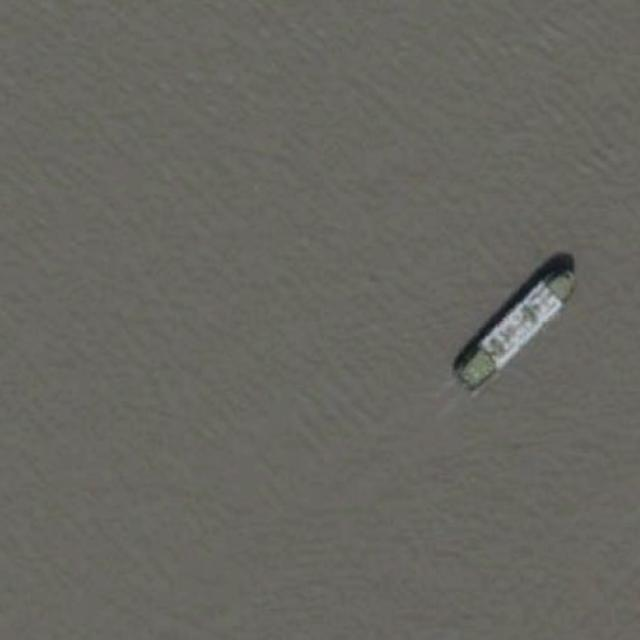ship: (452, 258, 580, 396)
